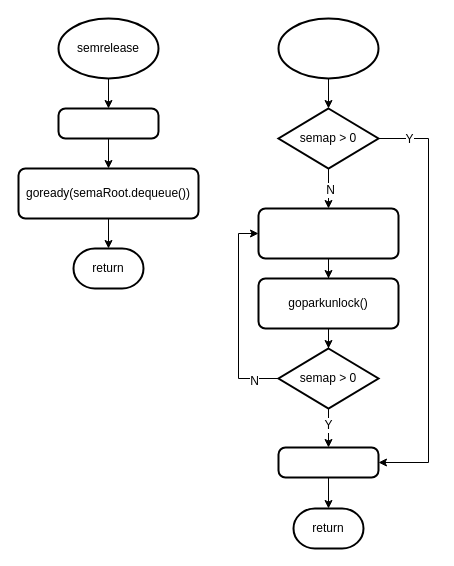
The diagram is 454 pixels wide and 566 high, and some of its shapes have lost their labels. Here are the shapes that lost their labels. From the top down, the centre of each, then its label:
the point at 328,48: semacquire
the point at 108,123: Inc semap
the point at 328,233: semaRoot.enqueue()
the point at 328,462: dec semap
